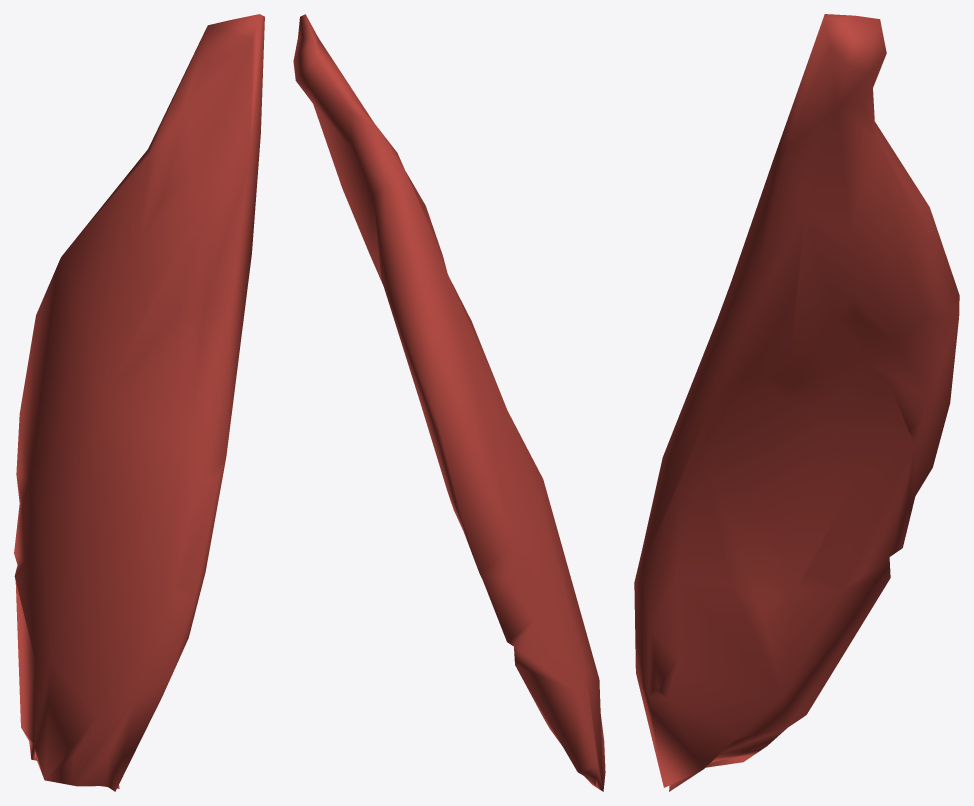
Rendered from musculos-opponens-digiti-minimi-muscle-of-hand-l.glb.
3 renders of one model, left to right at view 1: azimuth 30°, elevation 25°; view 2: azimuth 150°, elevation 25°; view 3: azimuth 270°, elevation 25°, orthographic. The views are drawn at different scales.
Parts seen in each view (by area): view 1: Opponens digiti minimi muscle of hand.l; view 2: Opponens digiti minimi muscle of hand.l; view 3: Opponens digiti minimi muscle of hand.l.
Boxes of the visible parts, x1,y1,x2,y2 form: Opponens digiti minimi muscle of hand.l: (14, 14, 264, 791); Opponens digiti minimi muscle of hand.l: (293, 14, 605, 791); Opponens digiti minimi muscle of hand.l: (634, 14, 959, 791).
Size of the model in its own units: 0.0184 by 0.0473 by 0.0154.
